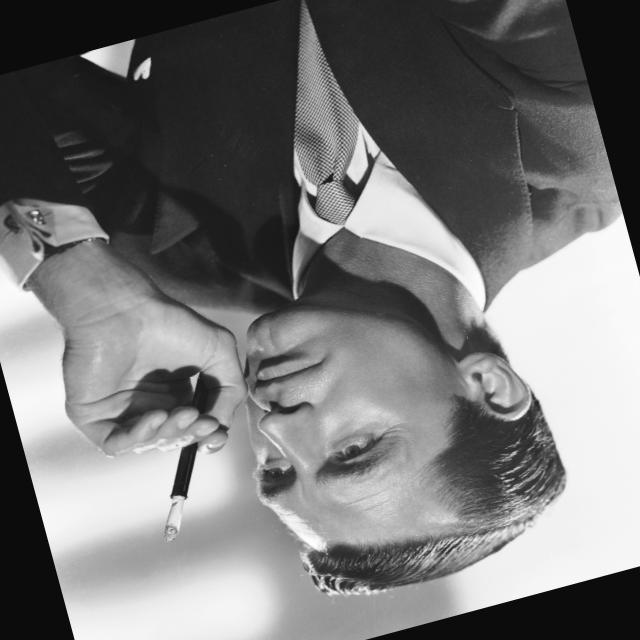cigarette: (157, 498, 190, 537)
